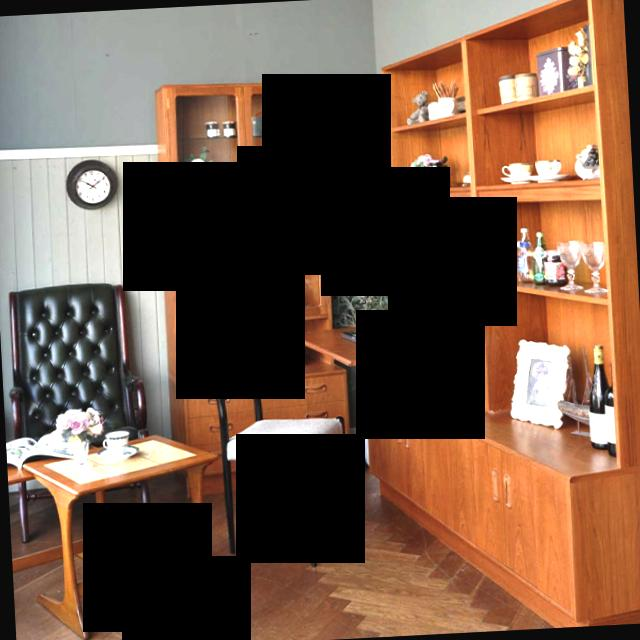vintage chair: (194, 317, 368, 584)
vintage desk: (12, 422, 237, 635)
vintage shelf: (348, 0, 640, 637)
